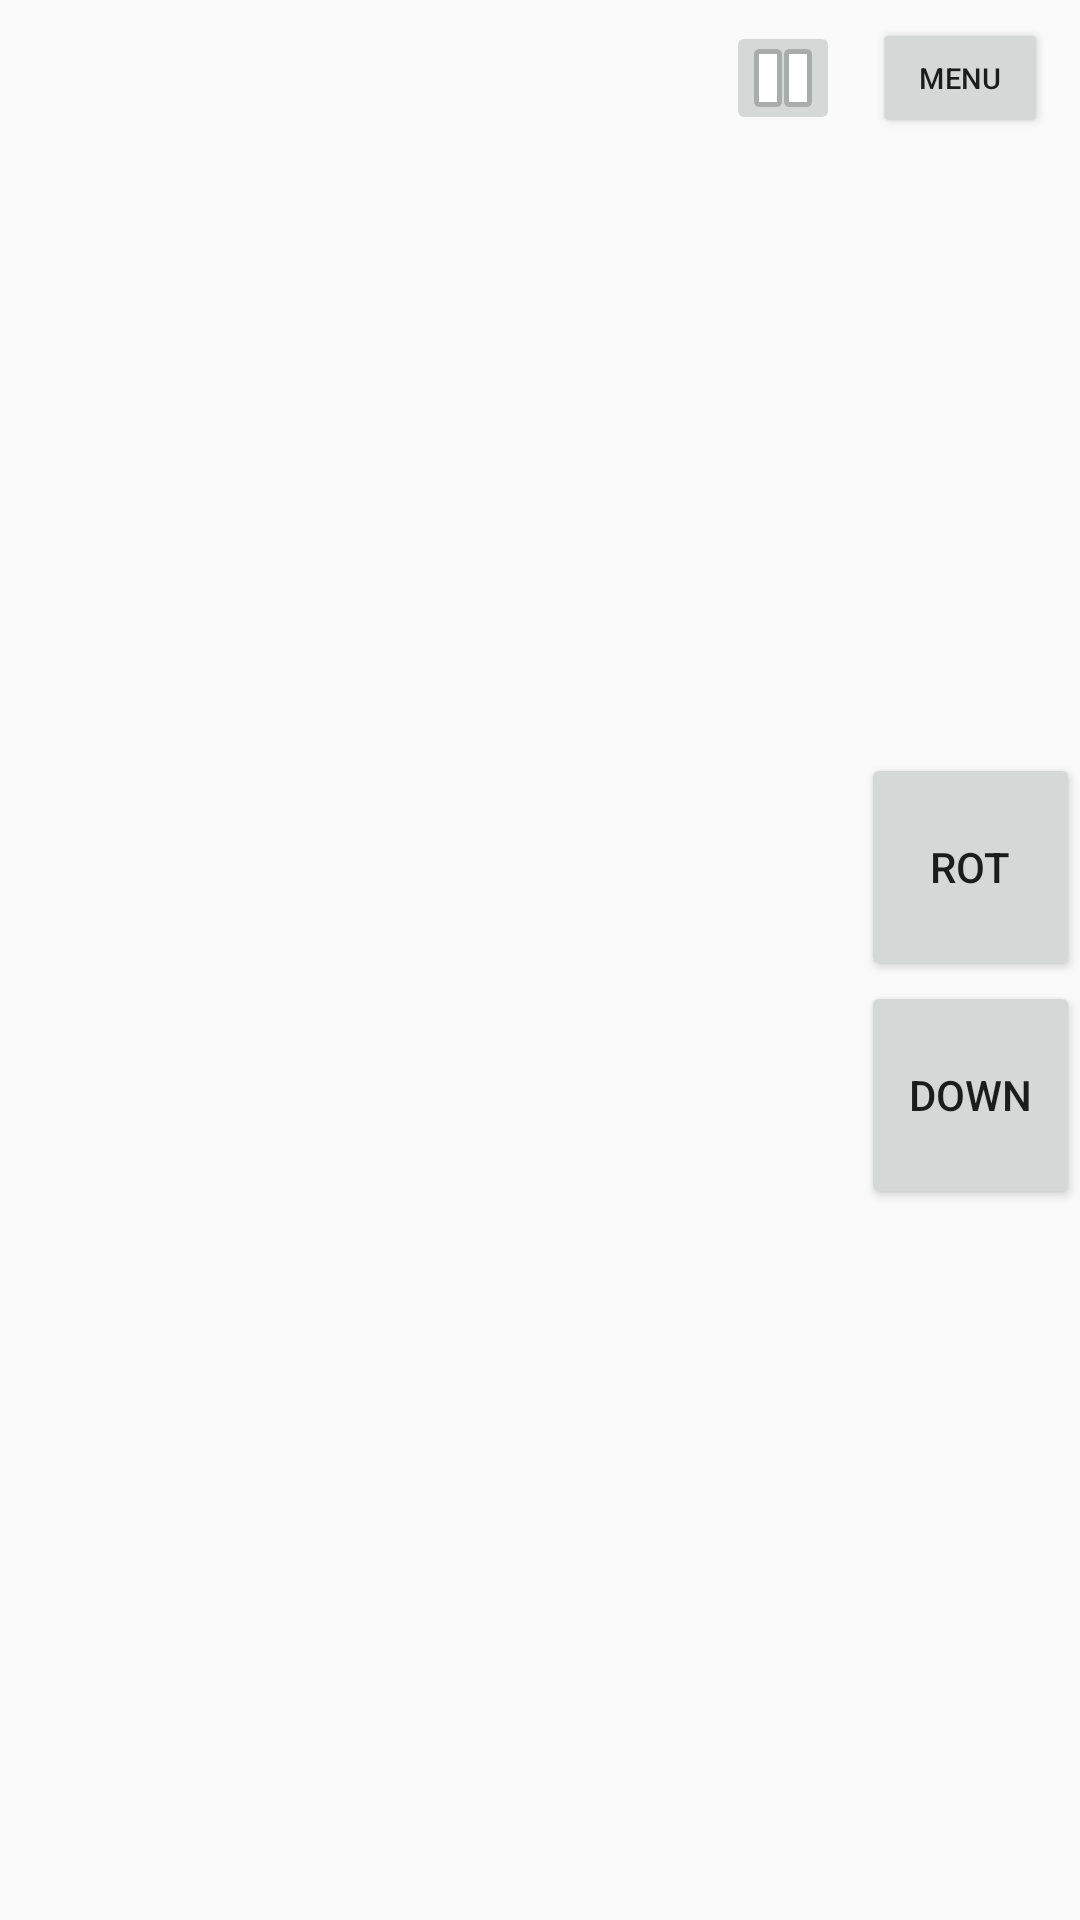

Point at icon controls on the screen. Image size 1080 × 1920, points as (x,y).
pause: (783,78)
